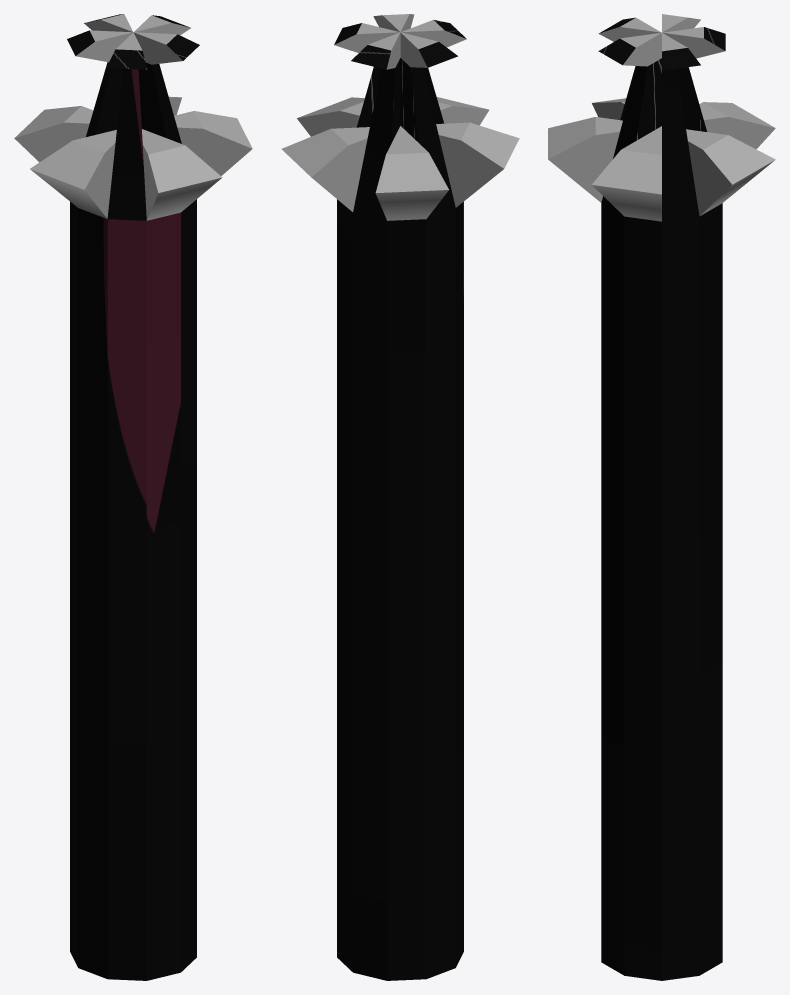
File: piler2.fbx
3 views of the same model, side by side, from view 1: azimuth 30°, elevation 25°; view 2: azimuth 150°, elevation 25°; view 3: azimuth 270°, elevation 25° (orthographic).
Visible parts, largest first — view 1: pCylinder1; view 2: pCylinder1; view 3: pCylinder1.
Boxes of the visible parts, x1,y1,x2,y2 form: pCylinder1: (14,14,252,980); pCylinder1: (281,14,519,980); pCylinder1: (548,14,775,980).
Size of the model in its own units: 2.02 by 8.57 by 1.92.
Materials: 3 (2 with a texture image).
